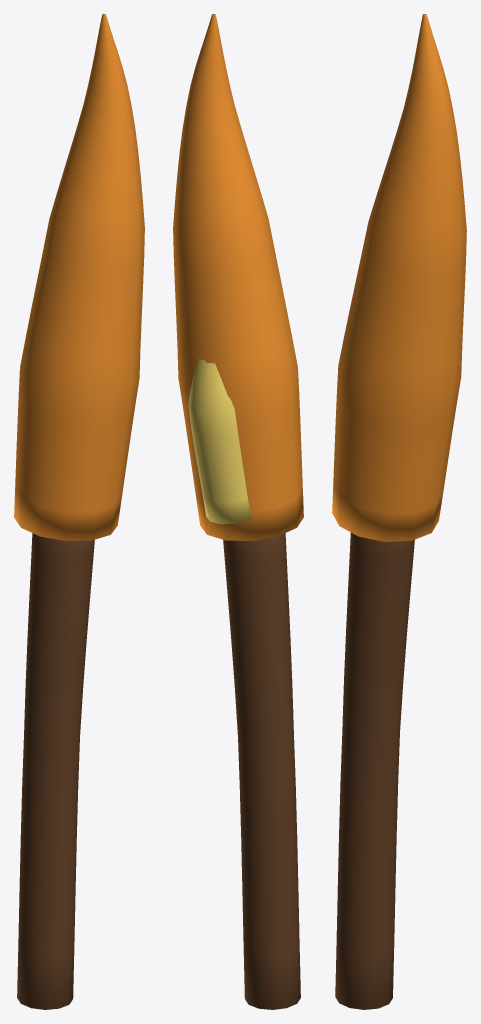
The model's file is character.glb.
3 views of the same model, side by side, from view 1: azimuth 30°, elevation 25°; view 2: azimuth 150°, elevation 25°; view 3: azimuth 330°, elevation 25° (orthographic). The views are drawn at different scales.
Parts seen in each view (by area): view 1: torch_flame, torch; view 2: torch_flame, torch; view 3: torch_flame, torch.
Part boxes in pixels (x1,y1,x2,y2): torch_flame: (14, 14, 144, 541); torch: (17, 533, 94, 1009); torch_flame: (173, 14, 303, 541); torch: (223, 533, 300, 1009); torch_flame: (332, 14, 466, 541); torch: (335, 532, 414, 1009).
Bounding box in the file's own units: 0.0127 × 0.1 × 0.0122.
